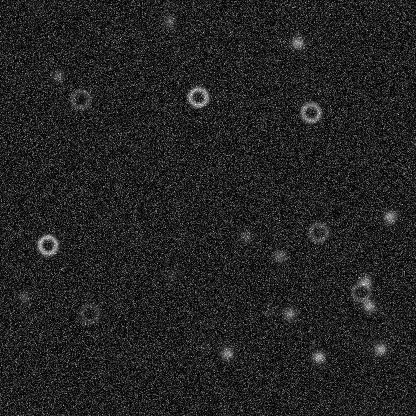Ring: (35, 232, 59, 256), (77, 301, 101, 325), (68, 87, 92, 111), (186, 84, 210, 108), (306, 220, 330, 244), (349, 279, 373, 303), (298, 100, 322, 124)
Spot: (49, 67, 65, 83), (310, 349, 326, 365), (271, 247, 287, 263), (198, 337, 214, 353), (237, 228, 253, 244), (372, 340, 388, 356), (160, 13, 176, 29), (260, 303, 276, 319), (15, 288, 31, 304), (289, 34, 305, 50), (281, 305, 297, 321), (219, 345, 235, 361), (360, 297, 376, 313), (357, 273, 373, 289), (162, 266, 178, 282), (381, 208, 397, 224)
